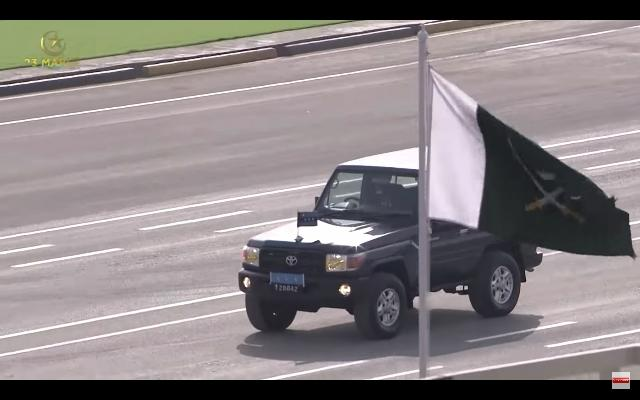plate: (272, 282, 304, 294)
